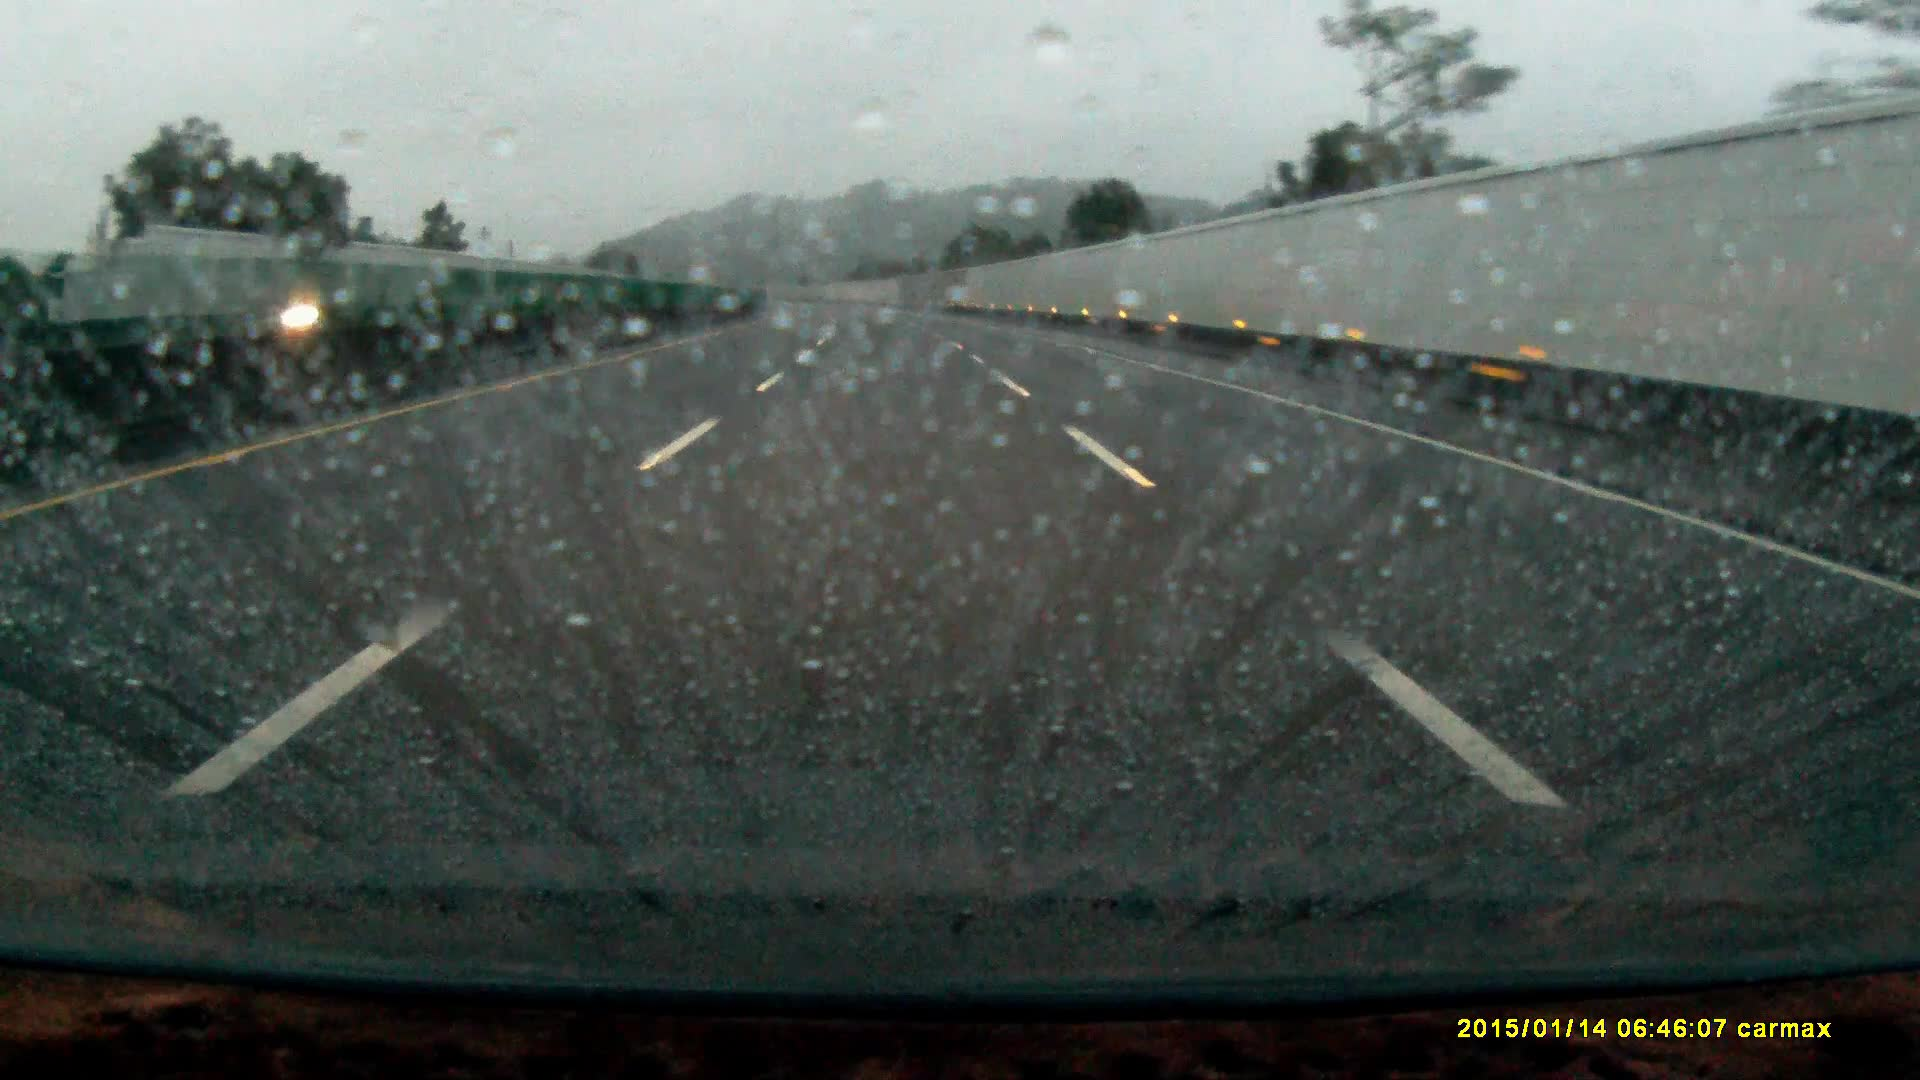vehicle: (240, 290, 359, 339)
